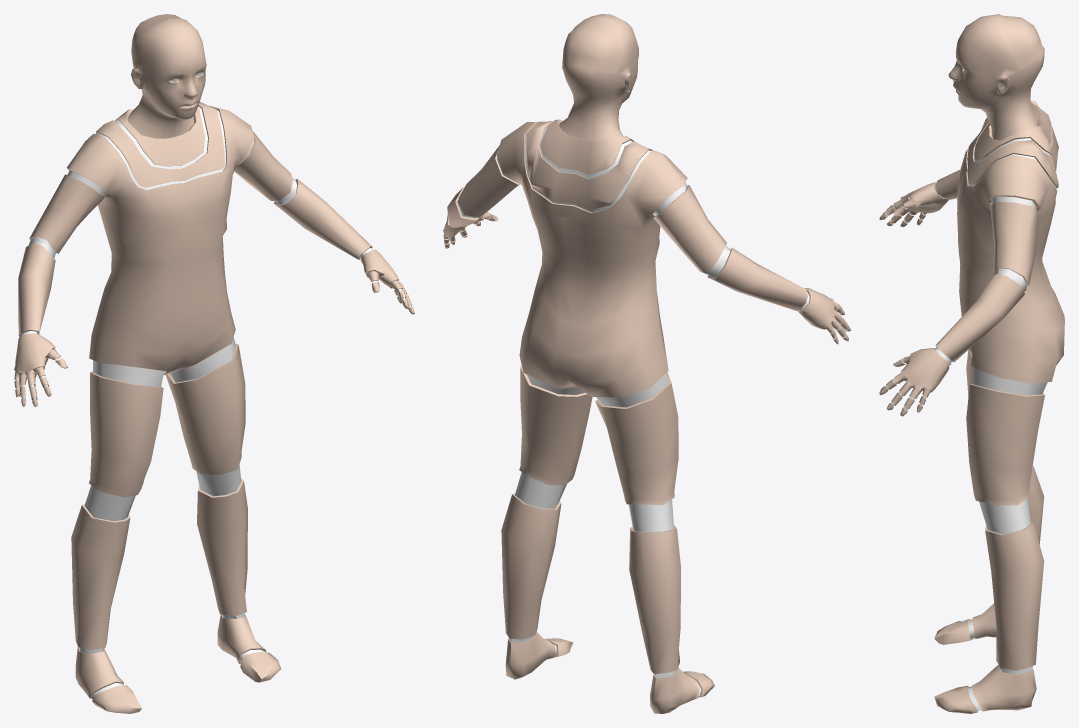
The model's file is manequin-man.obj.
3 renders of one model, left to right at view 1: azimuth 30°, elevation 25°; view 2: azimuth 150°, elevation 25°; view 3: azimuth 270°, elevation 25°, orthographic.
Parts seen in each view (by area): view 1: manequin-man; view 2: manequin-man; view 3: manequin-man.
Boxes of the visible parts, x1=… form: manequin-man: x1=14, y1=14, x2=414, y2=713; manequin-man: x1=443, y1=14, x2=850, y2=713; manequin-man: x1=879, y1=14, x2=1064, y2=713.
Bounding box in the file's own units: 5.51 × 8.84 × 2.27.
